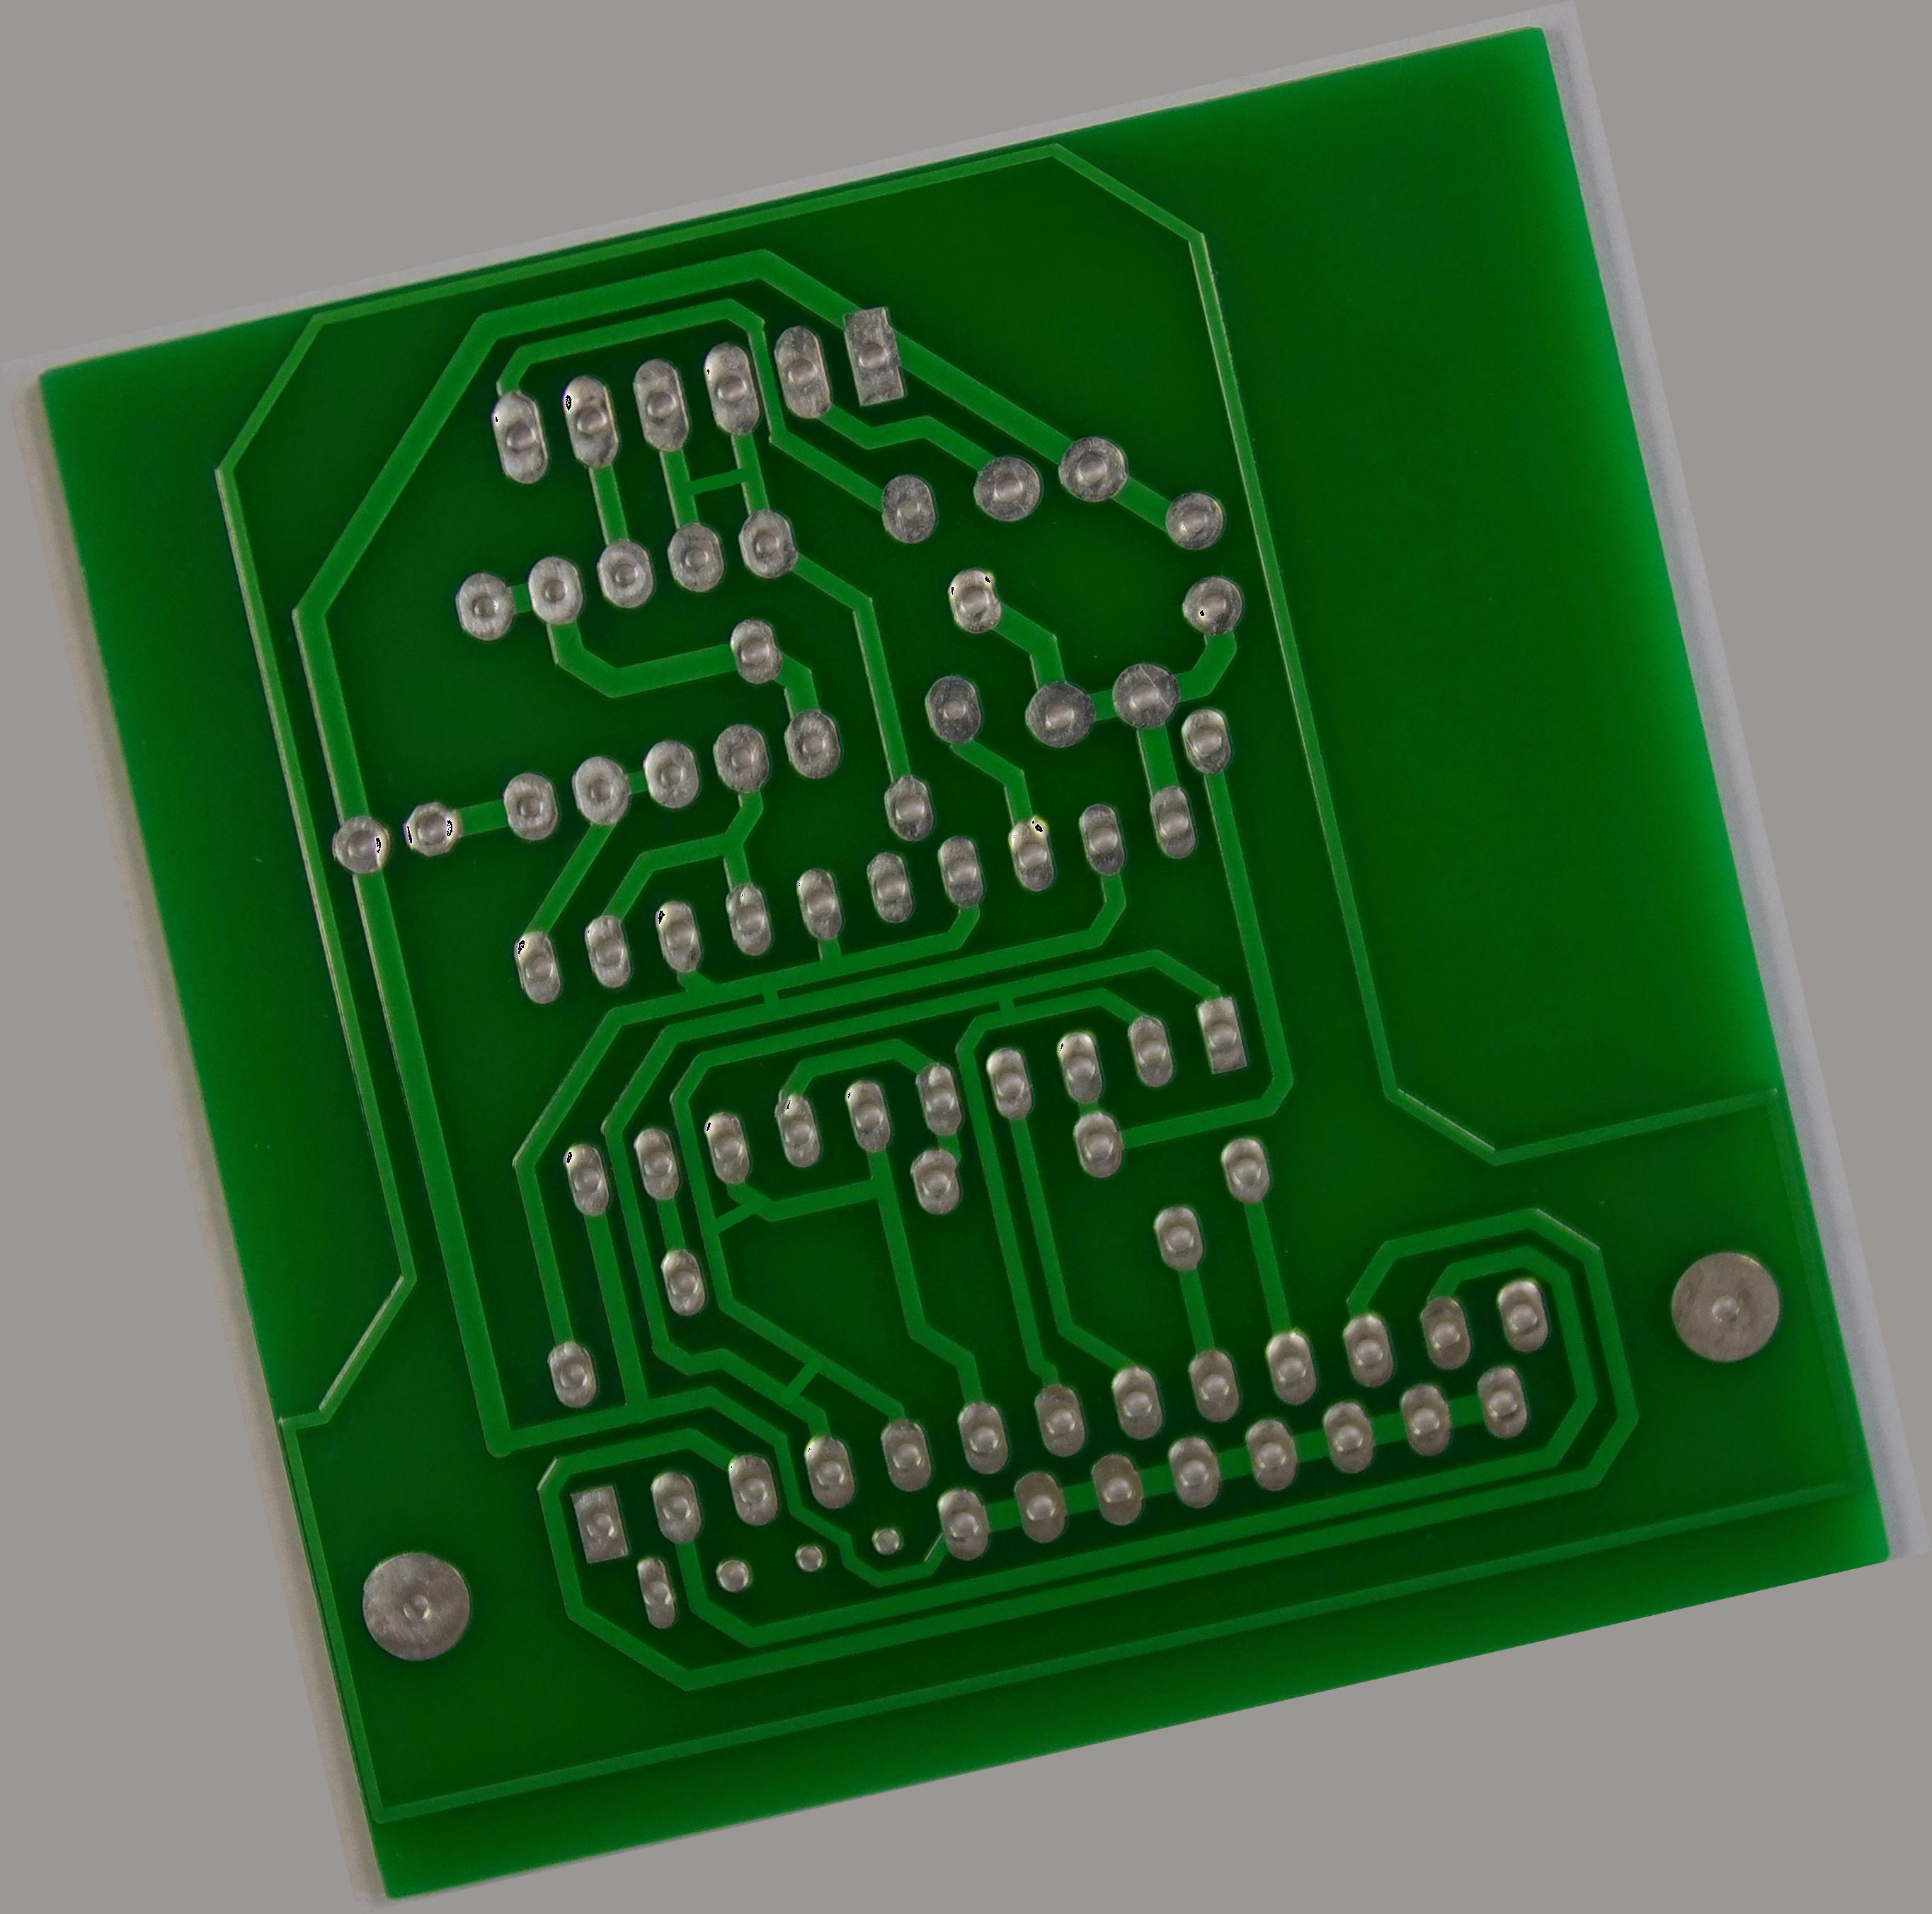short: (645, 443, 779, 519), (748, 1336, 853, 1421), (683, 1181, 783, 1253), (741, 959, 799, 1032), (976, 975, 1033, 1039)
